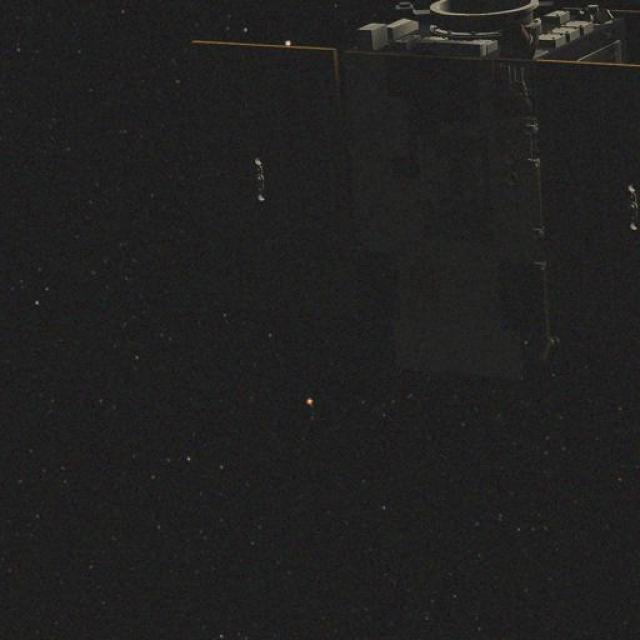proba_2: (194, 0, 640, 355)
